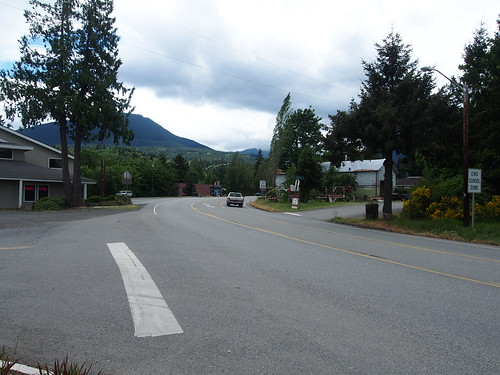building: (1, 132, 90, 200), (311, 159, 400, 204)
car: (223, 189, 246, 206)
sky: (144, 1, 390, 136)
street: (13, 205, 499, 375)
tree: (24, 1, 135, 202), (344, 46, 446, 242), (268, 98, 325, 205)
vegetation: (88, 146, 275, 196)
